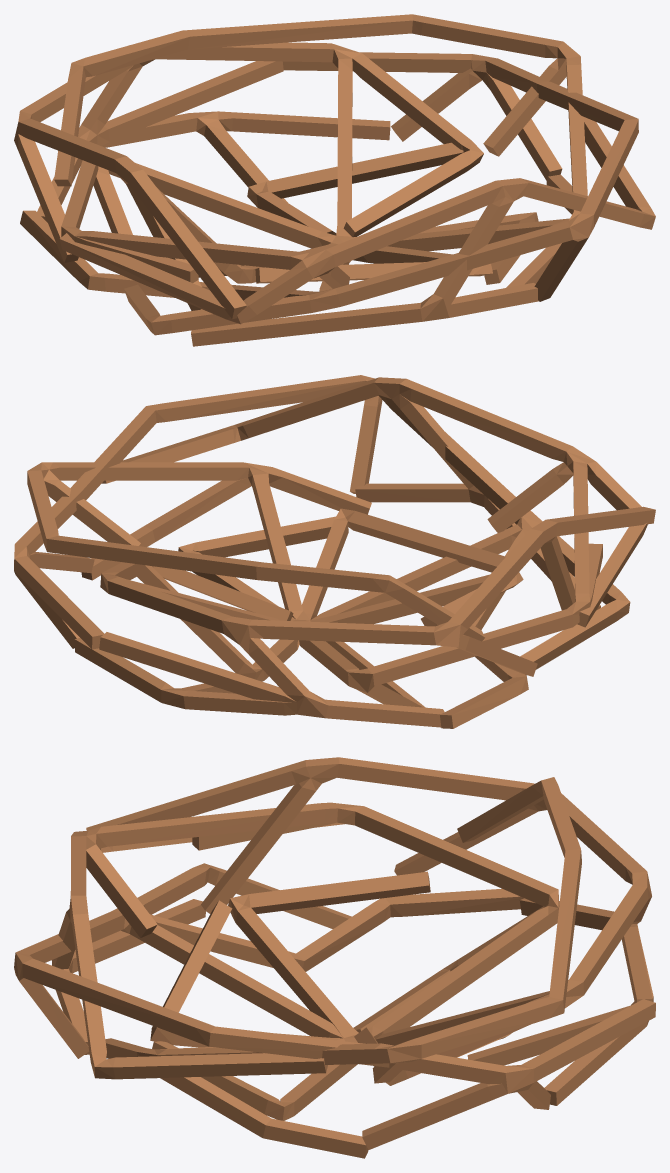
Rendered from Nest.obj.
3 views of the same model, one above another, from view 1: azimuth 30°, elevation 25°; view 2: azimuth 150°, elevation 25°; view 3: azimuth 270°, elevation 25° (orthographic). The views are drawn at different scales.
Visible parts, largest first — view 1: Cube; view 2: Cube; view 3: Cube.
Boxes of the visible parts, x1,y1,x2,y2 form: Cube: (14,14,655,346); Cube: (14,375,655,728); Cube: (14,757,655,1158).
Size of the model in its own units: 1 by 0.3258 by 0.9543.
1 material, 1 textured.
